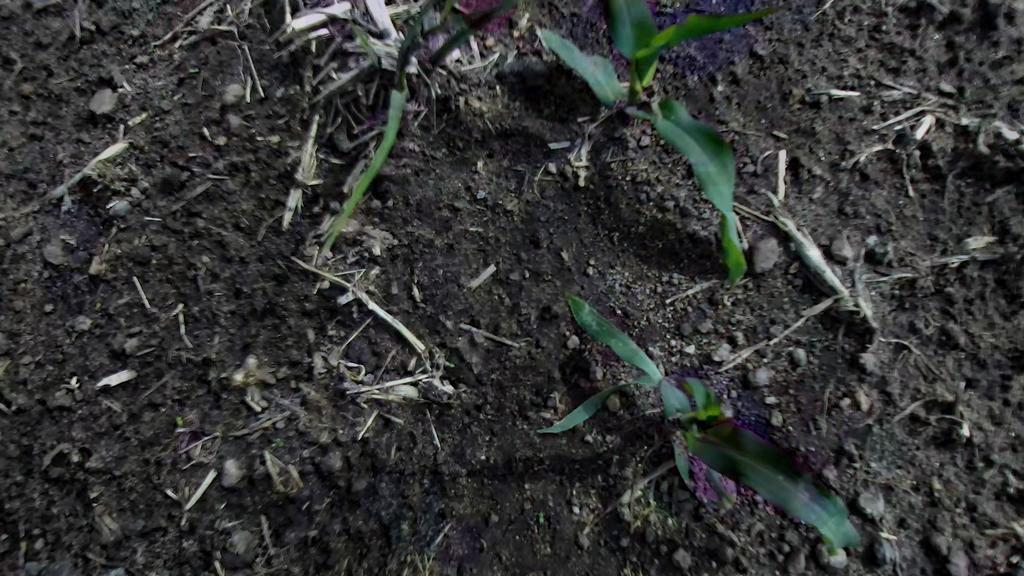BroWeed: (787, 261, 799, 275), (274, 436, 285, 448), (442, 359, 455, 369), (537, 511, 544, 524), (187, 66, 199, 73), (176, 416, 183, 426)
Maize: (491, 290, 887, 576)
NarWeed: (346, 19, 381, 67)
